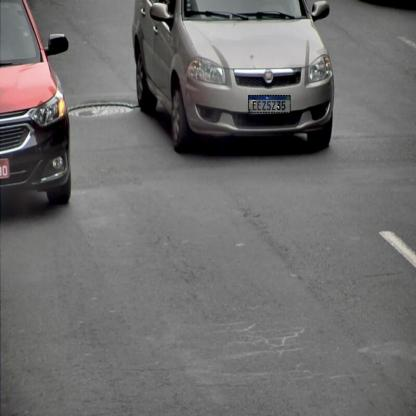PlacaM: (248, 95, 291, 113)
